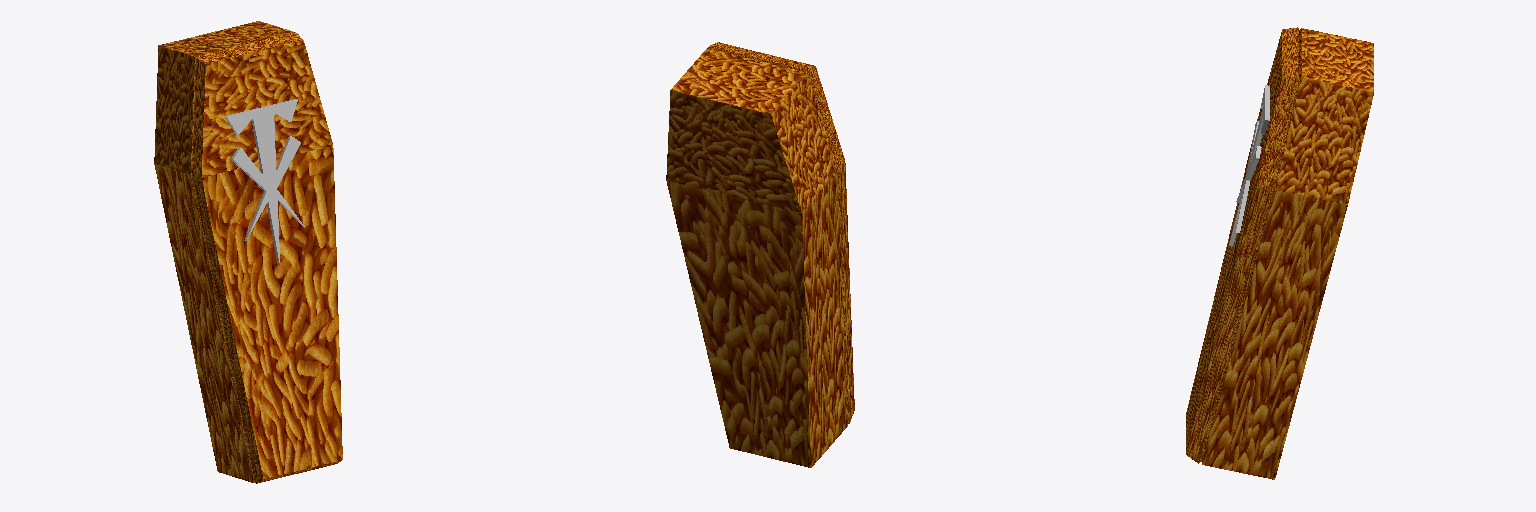
3 renders of one model, left to right at view 1: azimuth 30°, elevation 25°; view 2: azimuth 150°, elevation 25°; view 3: azimuth 270°, elevation 25°, orthographic.
Visible parts, largest first — view 1: coffin_Cube.002, symbol_Cube.001; view 2: coffin_Cube.002; view 3: coffin_Cube.002, symbol_Cube.001.
Boxes of the visible parts, x1=… form: coffin_Cube.002: x1=154, y1=21, x2=342, y2=483; symbol_Cube.001: x1=225, y1=99, x2=304, y2=265; coffin_Cube.002: x1=666, y1=42, x2=854, y2=467; coffin_Cube.002: x1=1186, y1=27, x2=1373, y2=479; symbol_Cube.001: x1=1229, y1=85, x2=1269, y2=246.
Size of the model in its own units: 2.69 by 7.75 by 3.25.
Materials: 2 (1 with a texture image).